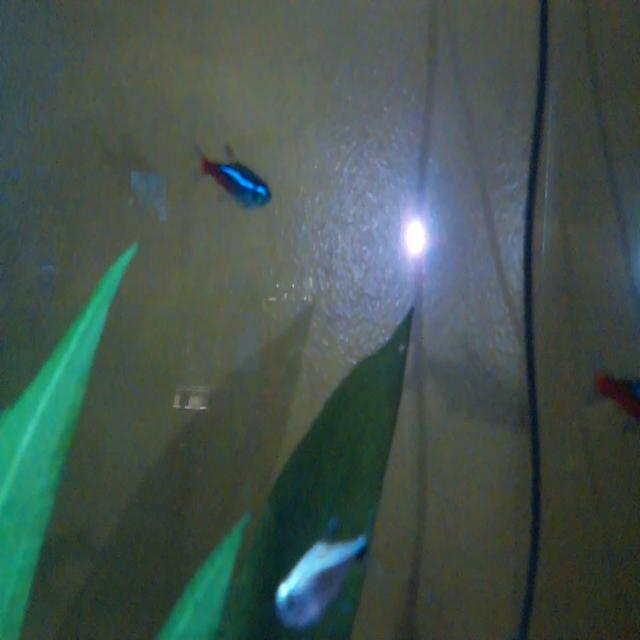fish: (262, 528, 371, 634), (190, 123, 277, 225)
